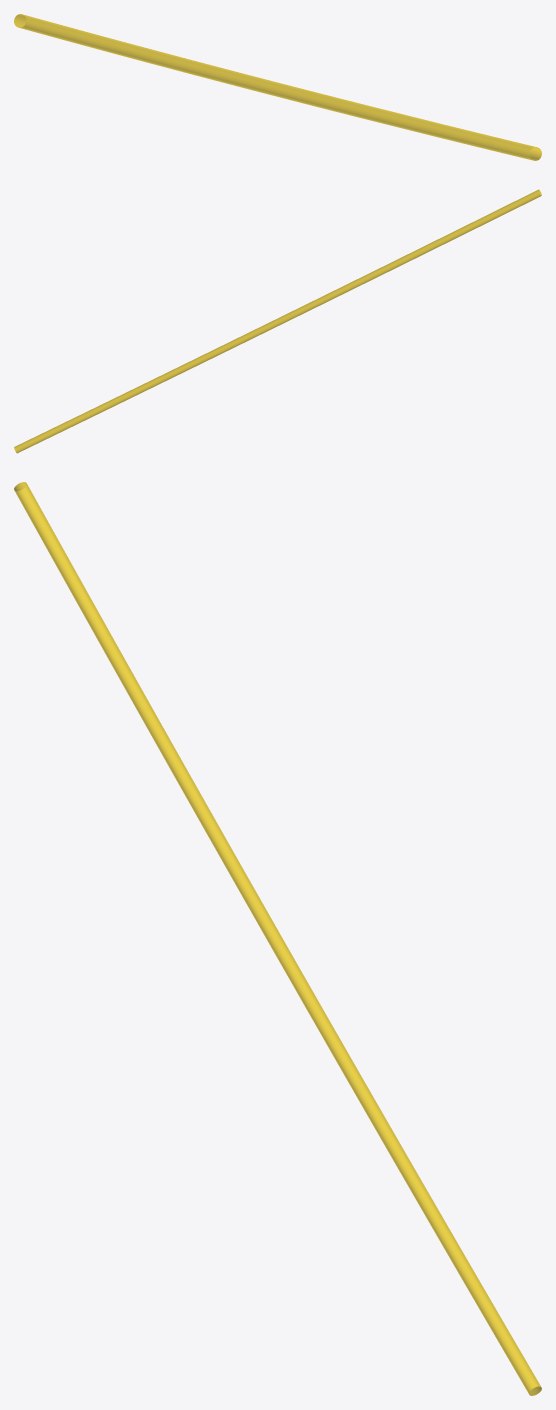
File: Event_15818458_track_16.fbx
3 renders of one model, top to bottom at view 1: azimuth 30°, elevation 25°; view 2: azimuth 150°, elevation 25°; view 3: azimuth 270°, elevation 25°, orthographic. The views are drawn at different scales.
Visible parts, largest first — view 1: Model; view 2: Model; view 3: Model.
Part boxes in pixels (x1,y1,x2,y2): Model: [14, 14, 541, 160]; Model: [14, 189, 541, 453]; Model: [14, 482, 541, 1395].
Size of the model in its own units: 2.57 by 1.63 by 1.47.
